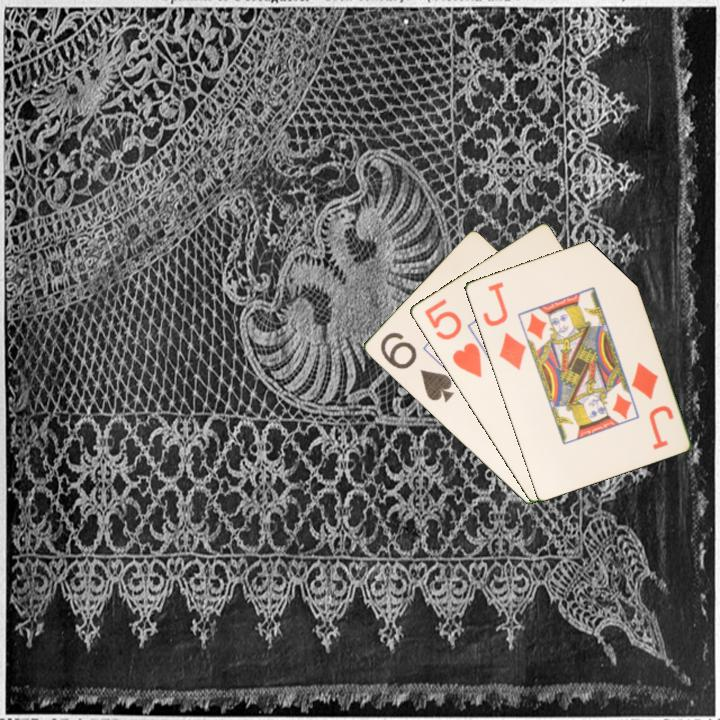5h: (420, 295, 485, 381)
6s: (376, 329, 457, 405)
Jd: (479, 278, 529, 373), (627, 358, 676, 452)
